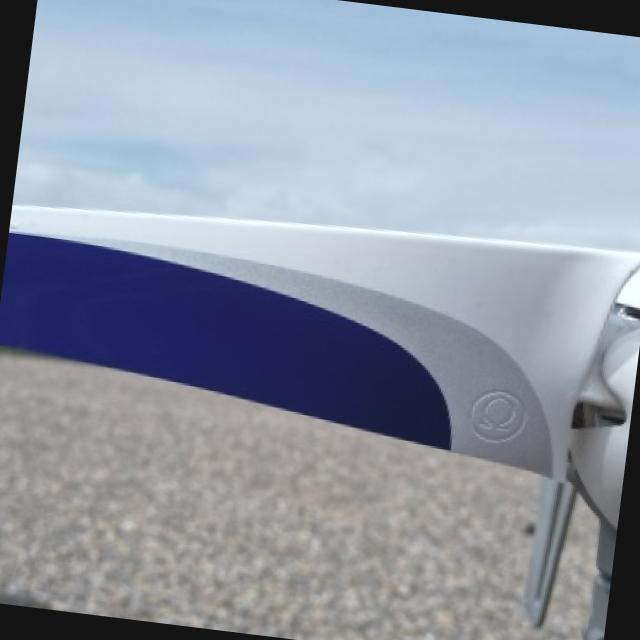healthy: (0, 203, 640, 640)
